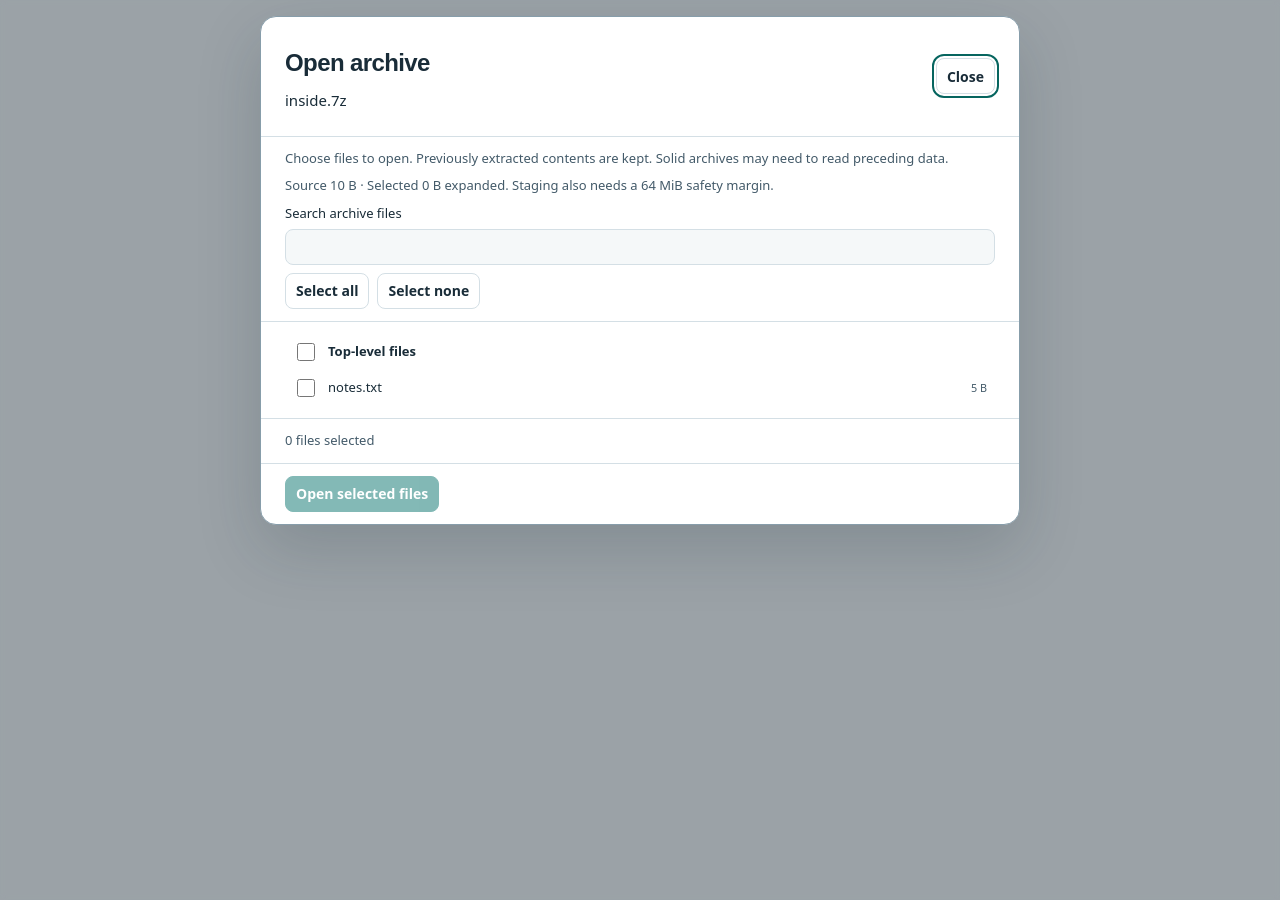
Test: does not navigate when an archive finishes after its review was unmounted
Click the checkbox labelled "notes.txt".
click(306, 388)  # box [297,379,315,397]
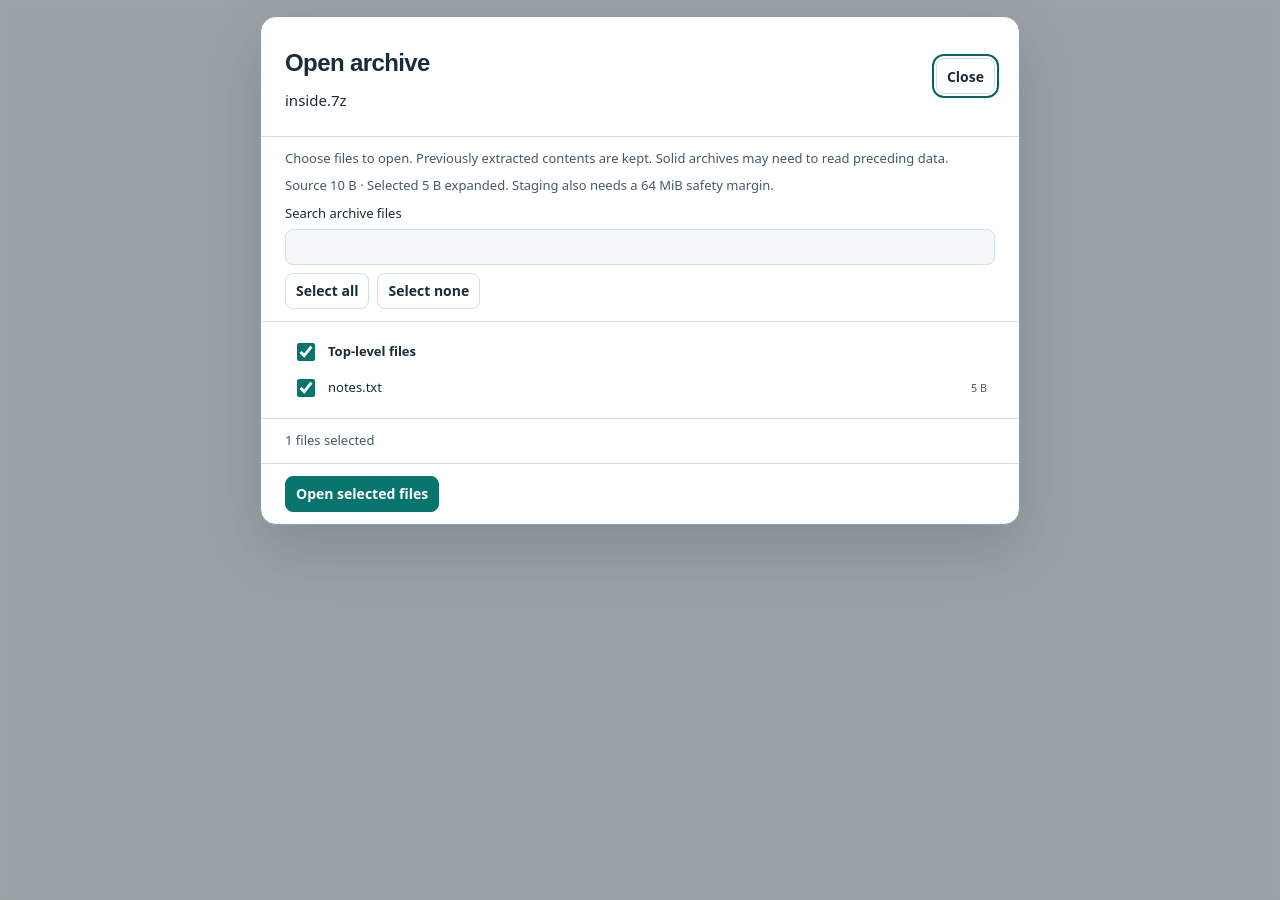
Click the button "Open selected files".
click(362, 494)  # box [285,476,439,512]
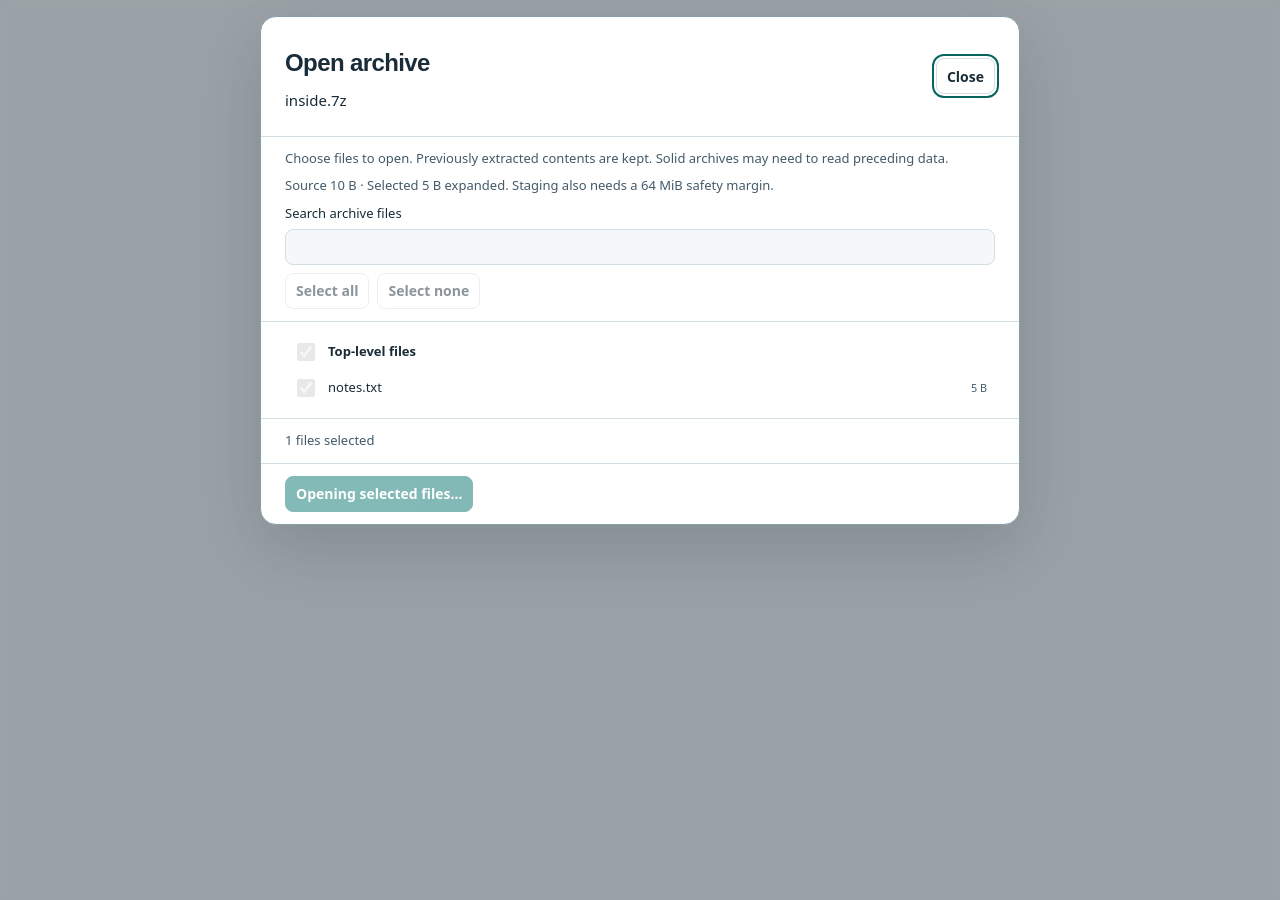
Expected: the button "Opening selected files…" is shown, [285,476,473,512]
